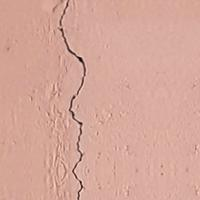crack: (27, 0, 105, 199)
